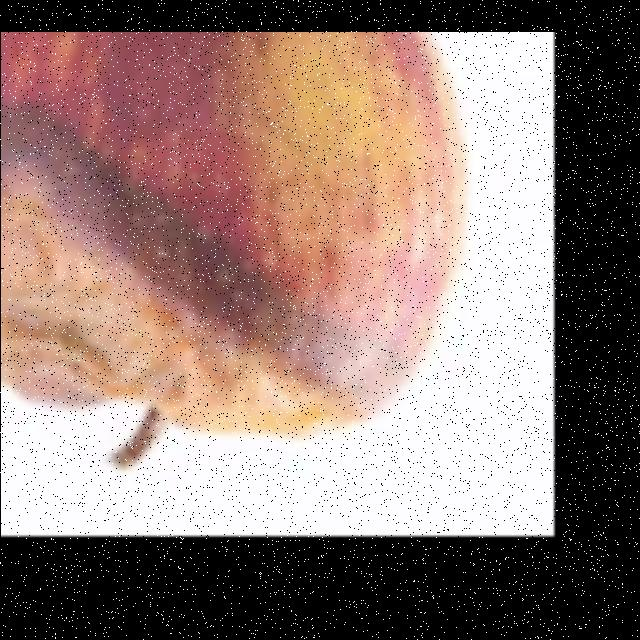Apel Tidak Segar: (0, 32, 484, 439)
